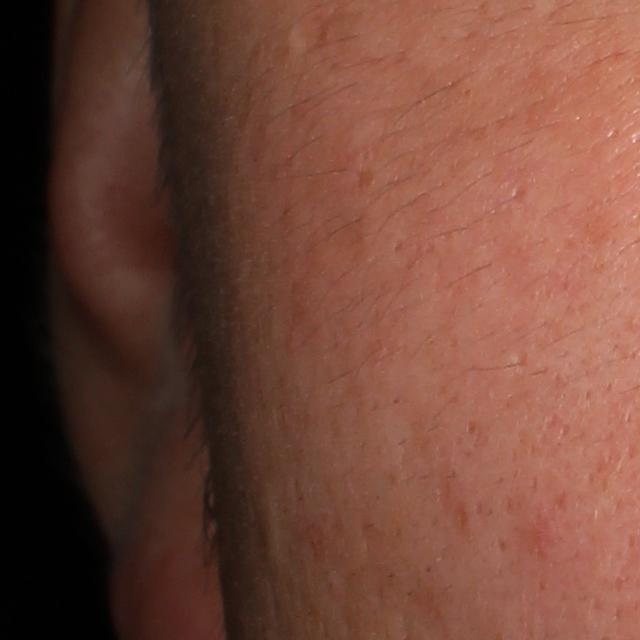atrophic_scar: (511, 351, 534, 375)
melasma: (352, 167, 377, 193)
